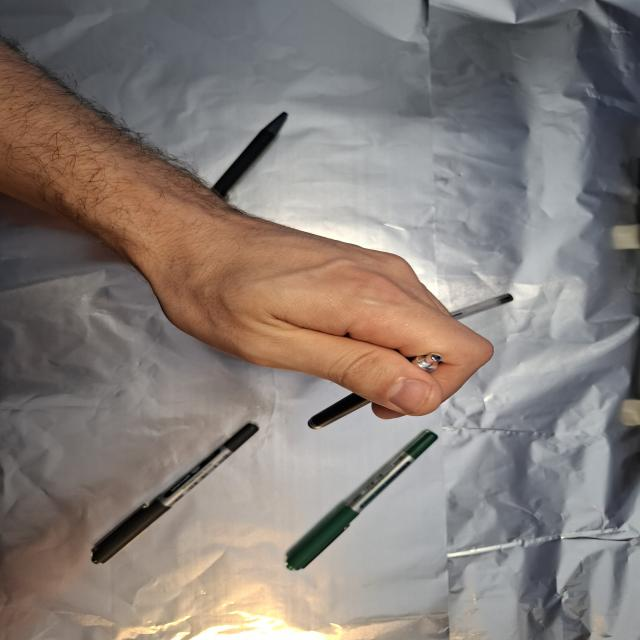glove_off: (126, 197, 498, 421)
